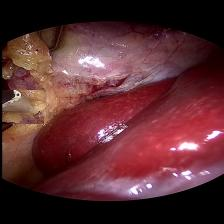Grasper: (32, 24, 66, 56)
Hook: (0, 90, 45, 124)
